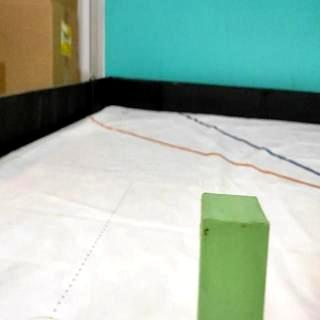greenbox: (198, 189, 270, 320)
